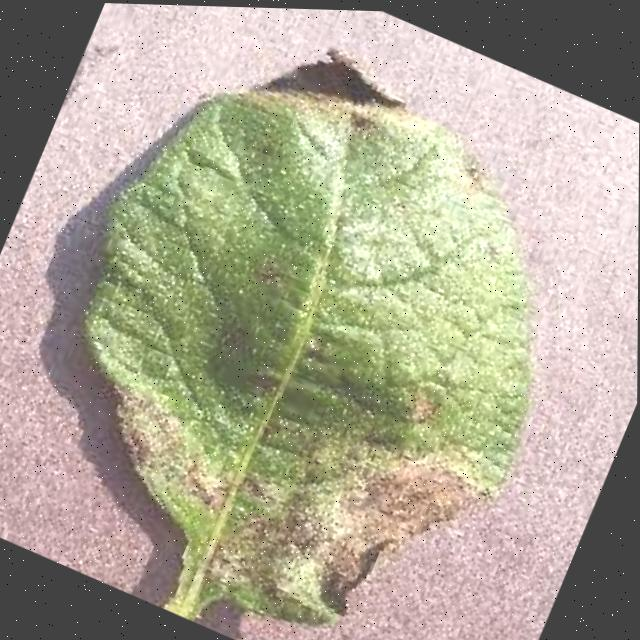Late_blight: (257, 396, 510, 640), (225, 7, 426, 185), (81, 345, 274, 522)
